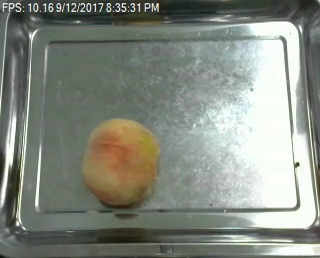Peach: (81, 117, 158, 206)
